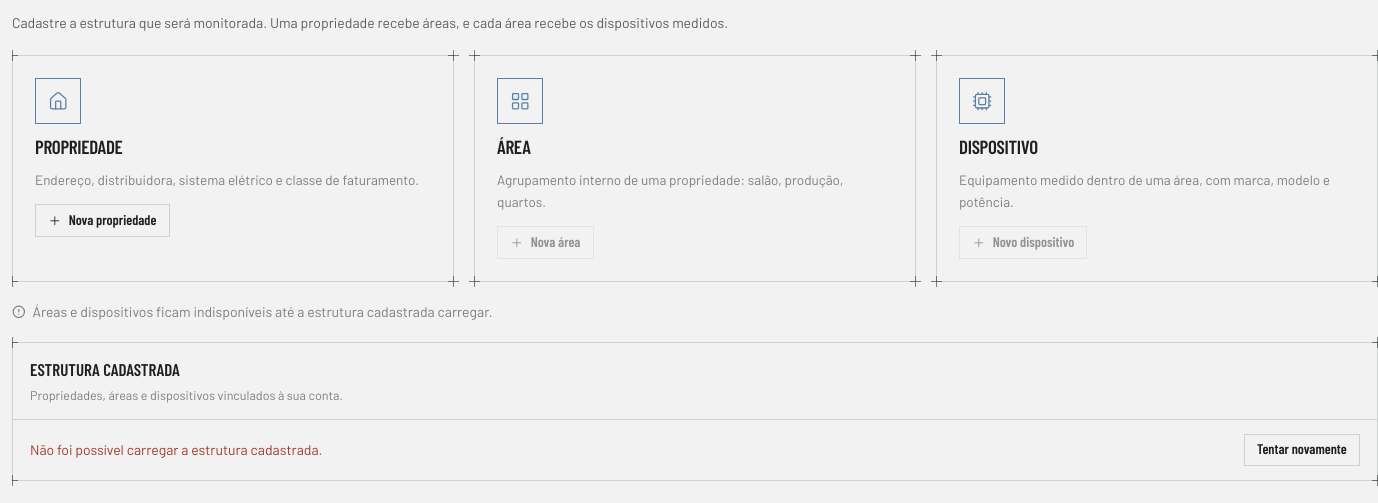
Test: RegistrationPage — carregamento e erro › falha fechado, explica e permite tentar de novo quando a árvore não carrega
expect the message shows "Não foi possível carregar": met, box [30,441,322,458]
expect the button "Nova área" is disabled: met, box [497,226,594,259]
Click the button "Tentar novamente".
click(1302, 450)  # box [1244,434,1360,466]
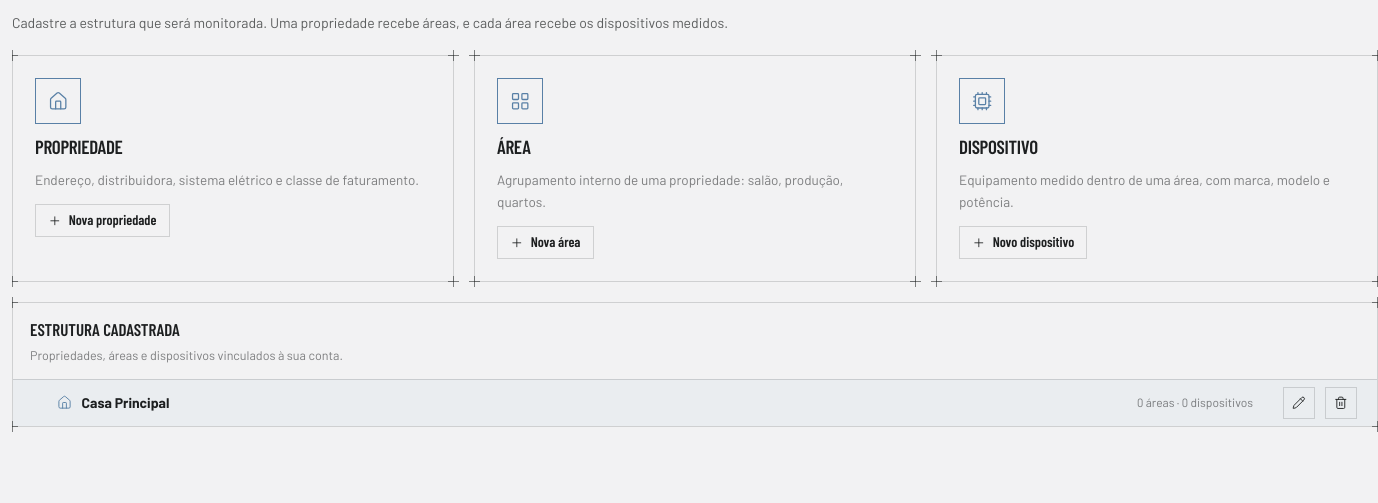
expect the button "Nova área" is enabled: met, box [497,226,594,259]
expect the text "ficam indisponíveis" is gone: met
